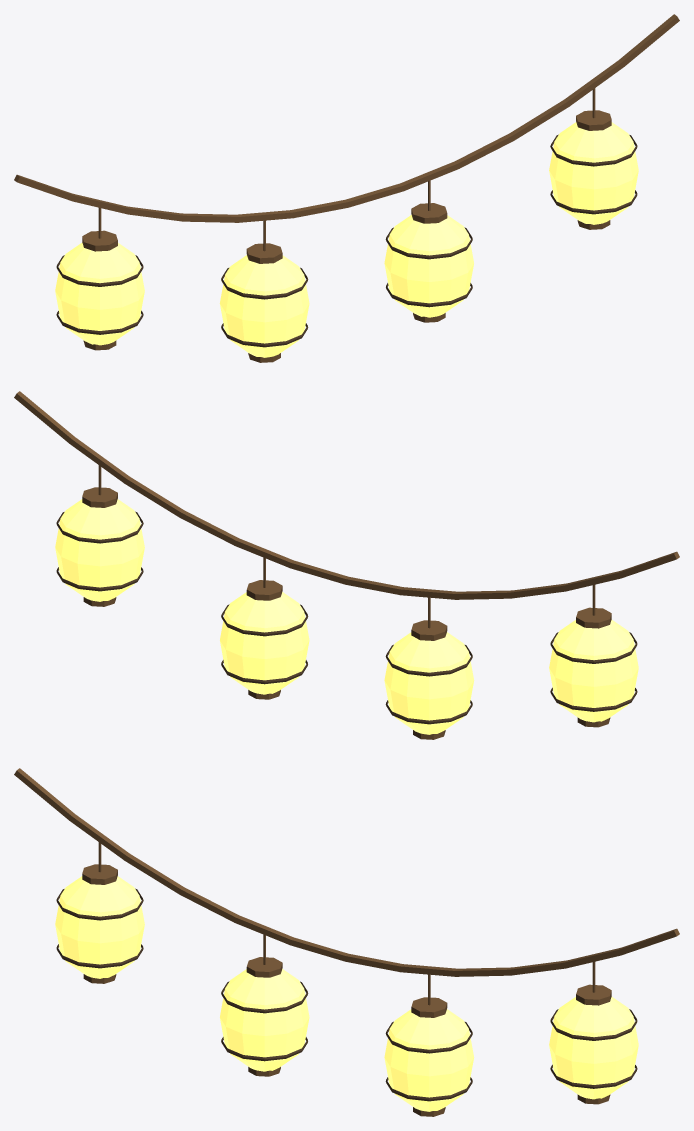
File: Prop_YTM_LanternString.glb
The picture shows the model from 3 angles, top to bottom: view 1: azimuth 30°, elevation 25°; view 2: azimuth 150°, elevation 25°; view 3: azimuth 330°, elevation 25°; orthographic projection.
Parts seen in each view (by area): view 1: Prop_YTM_LanternString; view 2: Prop_YTM_LanternString; view 3: Prop_YTM_LanternString.
Part boxes in pixels (x1,y1,x2,y2): Prop_YTM_LanternString: (14,14,679,362); Prop_YTM_LanternString: (14,391,679,739); Prop_YTM_LanternString: (14,768,679,1116).
Size of the model in its own units: 1.45 by 0.5025 by 0.17.
